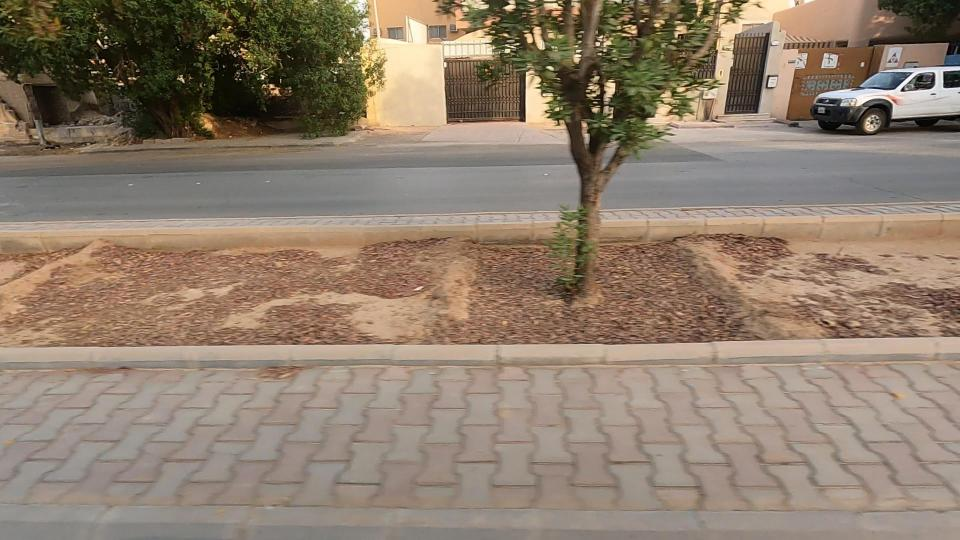CLUTTER_SIDEWALK: (268, 128, 960, 413), (0, 147, 607, 420)
